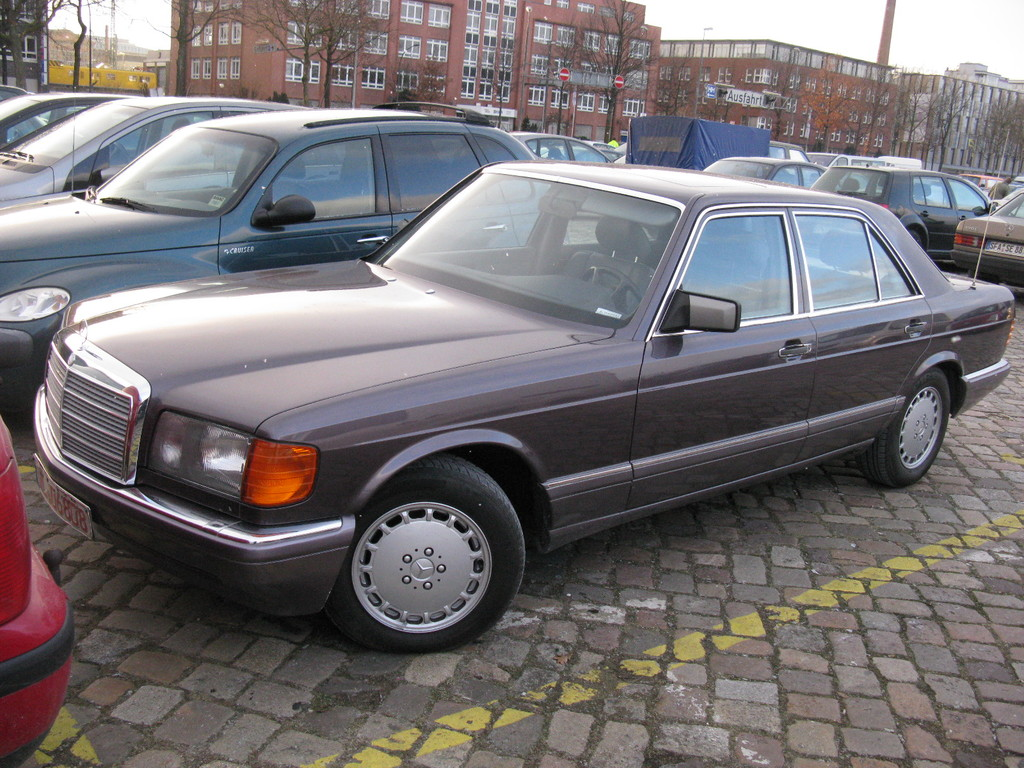Car: (2, 99, 1023, 767), (0, 102, 604, 456), (0, 92, 490, 209), (0, 85, 276, 165), (812, 167, 995, 272), (701, 148, 845, 193), (957, 185, 1023, 275), (513, 123, 625, 169)
